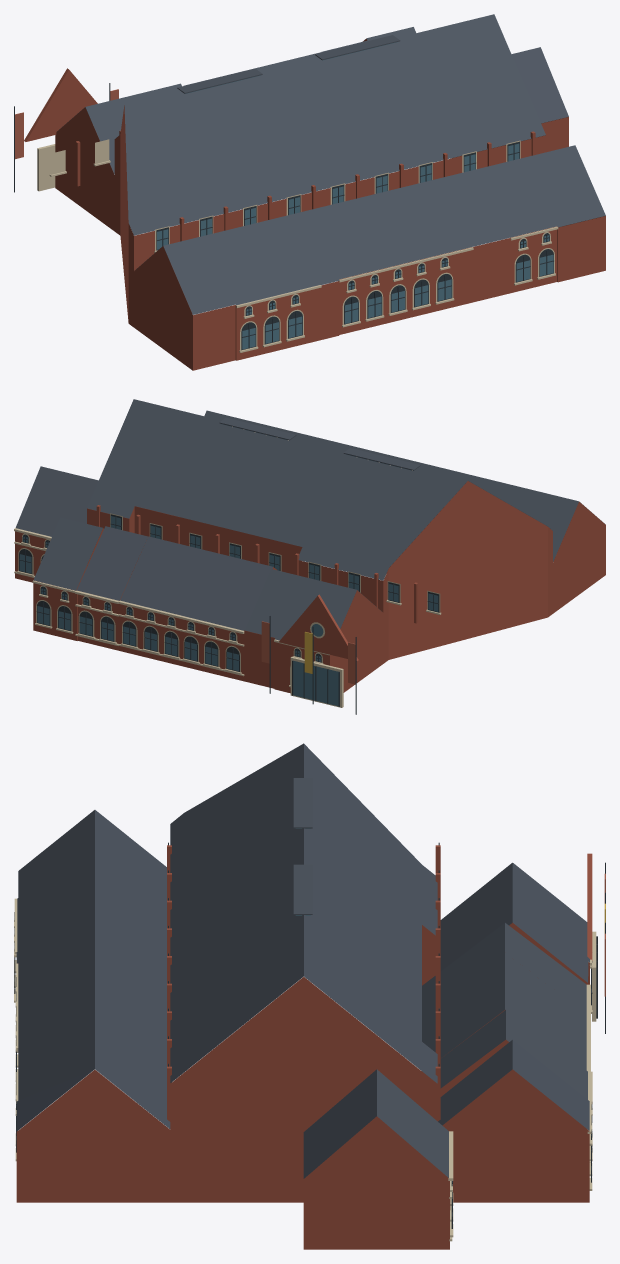
File: de-krakeling.glb
The picture shows the model from 3 angles, top to bottom: view 1: azimuth 30°, elevation 25°; view 2: azimuth 150°, elevation 25°; view 3: azimuth 270°, elevation 25°; orthographic projection. The views are drawn at different scales.
Parts seen in each view (by area): view 1: de-krakeling; view 2: de-krakeling; view 3: de-krakeling.
Boxes of the visible parts, x1,y1,x2,y2 form: de-krakeling: (14, 14, 605, 370); de-krakeling: (14, 399, 605, 714); de-krakeling: (14, 743, 605, 1249).
Size of the model in its own units: 52.11 by 17.98 by 42.52.
